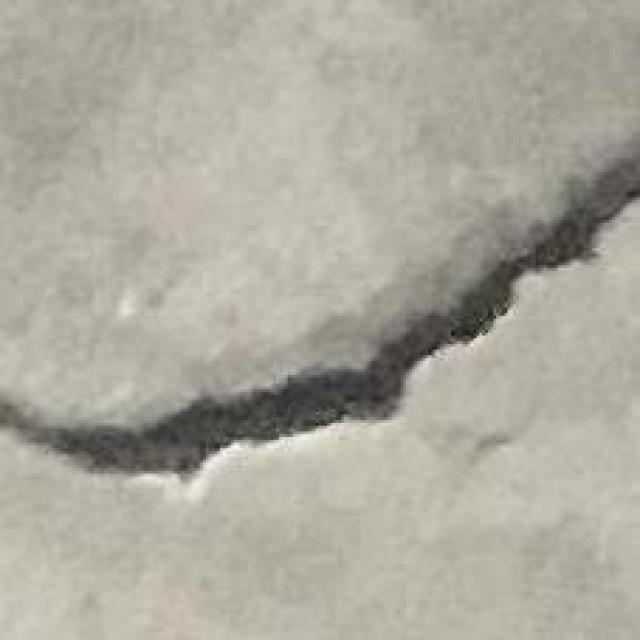diagonal crack: (0, 158, 639, 480)
